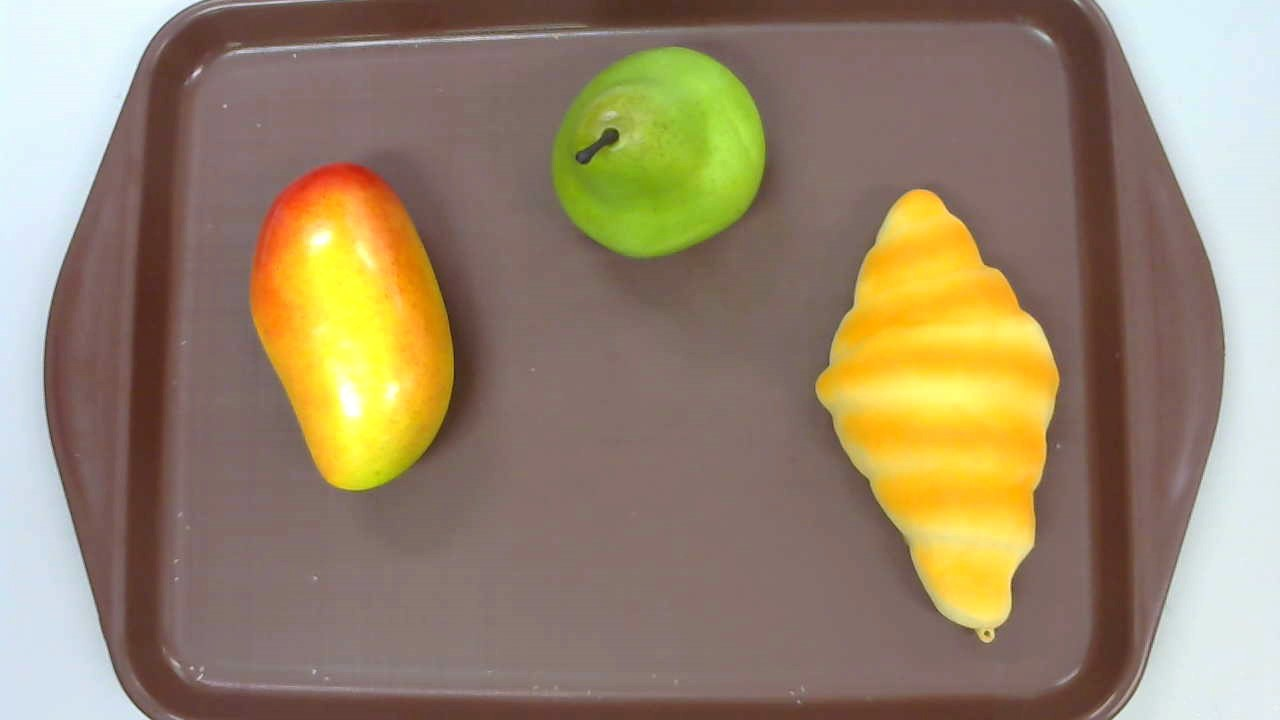croissant: (816, 188, 1060, 641)
green pear: (551, 46, 766, 259)
red mango: (250, 164, 454, 491)
